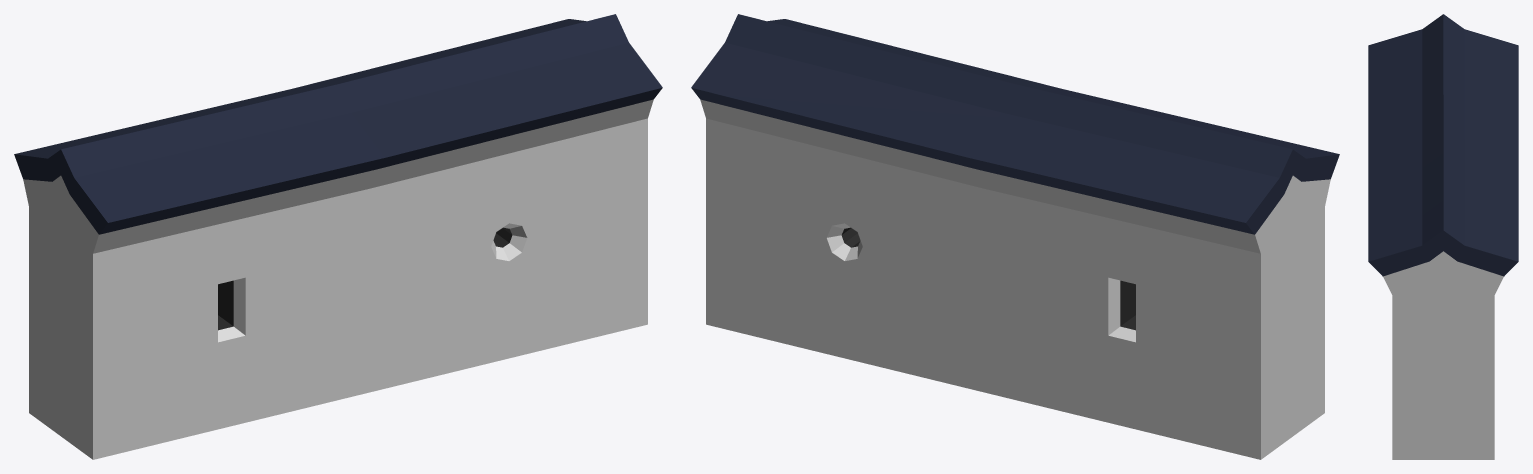
File: japan_wall-japan_small.fbx
3 views of the same model, side by side, from view 1: azimuth 30°, elevation 25°; view 2: azimuth 150°, elevation 25°; view 3: azimuth 270°, elevation 25° (orthographic). The views are drawn at different scales.
Visible parts, largest first — view 1: japan_wall_japan_small; view 2: japan_wall_japan_small; view 3: japan_wall_japan_small.
Part boxes in pixels (left/top/right/bottom): japan_wall_japan_small: left=14, top=14, right=662, bottom=459; japan_wall_japan_small: left=691, top=14, right=1339, bottom=459; japan_wall_japan_small: left=1368, top=14, right=1518, bottom=459.
Bounding box in the file's own units: 200 × 98.91 × 58.69.
